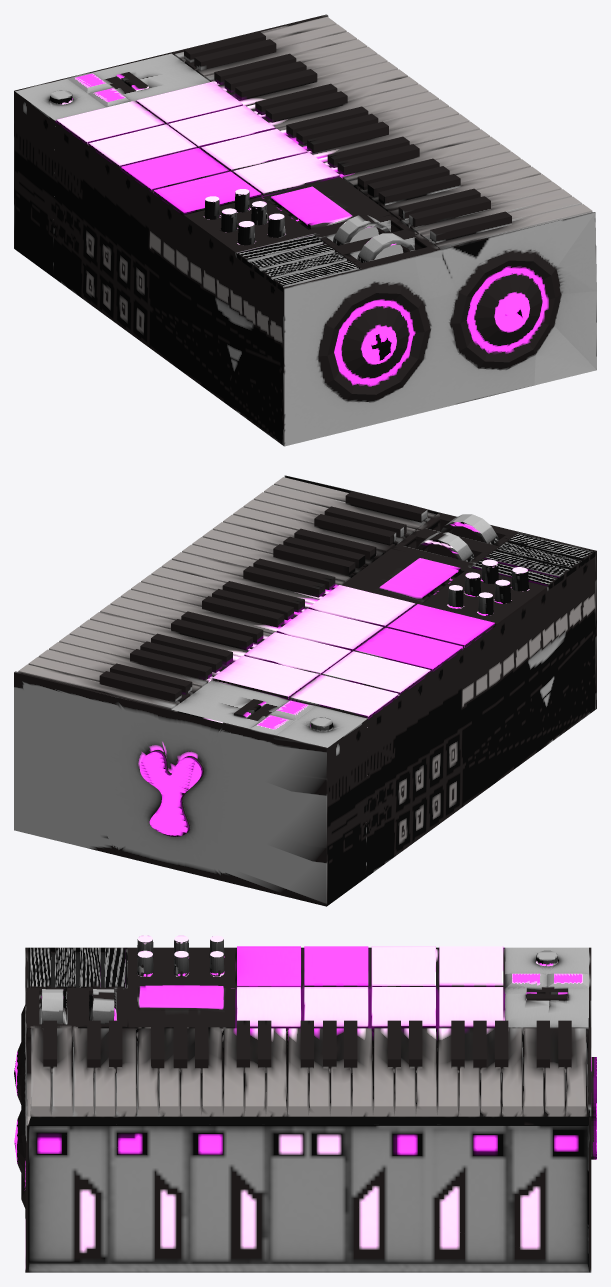
Rendered from 4-purple-synth.glb.
The picture shows the model from 3 angles, top to bottom: view 1: azimuth 30°, elevation 25°; view 2: azimuth 150°, elevation 25°; view 3: azimuth 270°, elevation 25°; orthographic projection. The views are drawn at different scales.
Visible parts, largest first — view 1: synth-LP-purple; view 2: synth-LP-purple; view 3: synth-LP-purple.
Boxes of the visible parts, x1,y1,x2,y2 form: synth-LP-purple: (14,14,596,446); synth-LP-purple: (14,475,596,906); synth-LP-purple: (14,935,596,1272).
Bounding box in the file's own units: 1.35 × 0.7234 × 2.08.
Materials: 1 (1 with a texture image).
